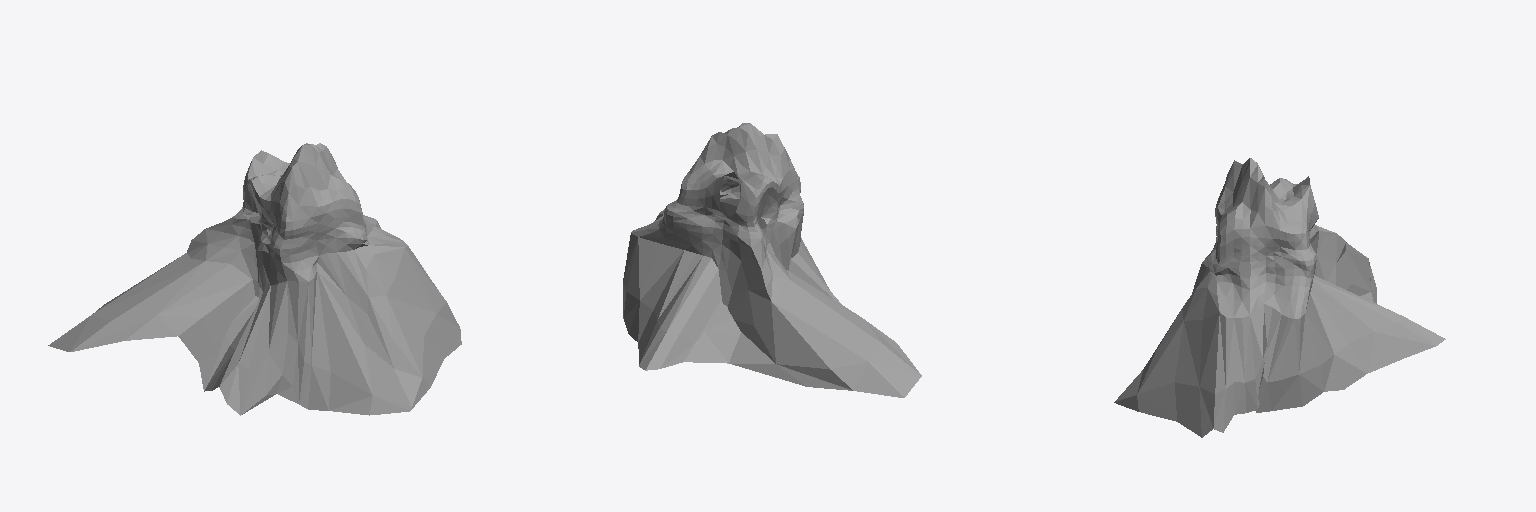
File: СКАЛА12.obj
3 views of the same model, side by side, from view 1: azimuth 30°, elevation 25°; view 2: azimuth 150°, elevation 25°; view 3: azimuth 270°, elevation 25° (orthographic).
Visible parts, largest first — view 1: Cube.002, Cube; view 2: Cube.002, Cube; view 3: Cube.002, Cube.
Boxes of the visible parts, box(x1,y1,x2,y2) form: Cube.002: box(48, 221, 461, 415); Cube: box(187, 143, 407, 299); Cube.002: box(623, 198, 921, 397); Cube: box(631, 123, 803, 306); Cube.002: box(1114, 234, 1445, 437); Cube: box(1202, 158, 1336, 318).
Size of the model in its own units: 8.74 by 5.53 by 7.29.